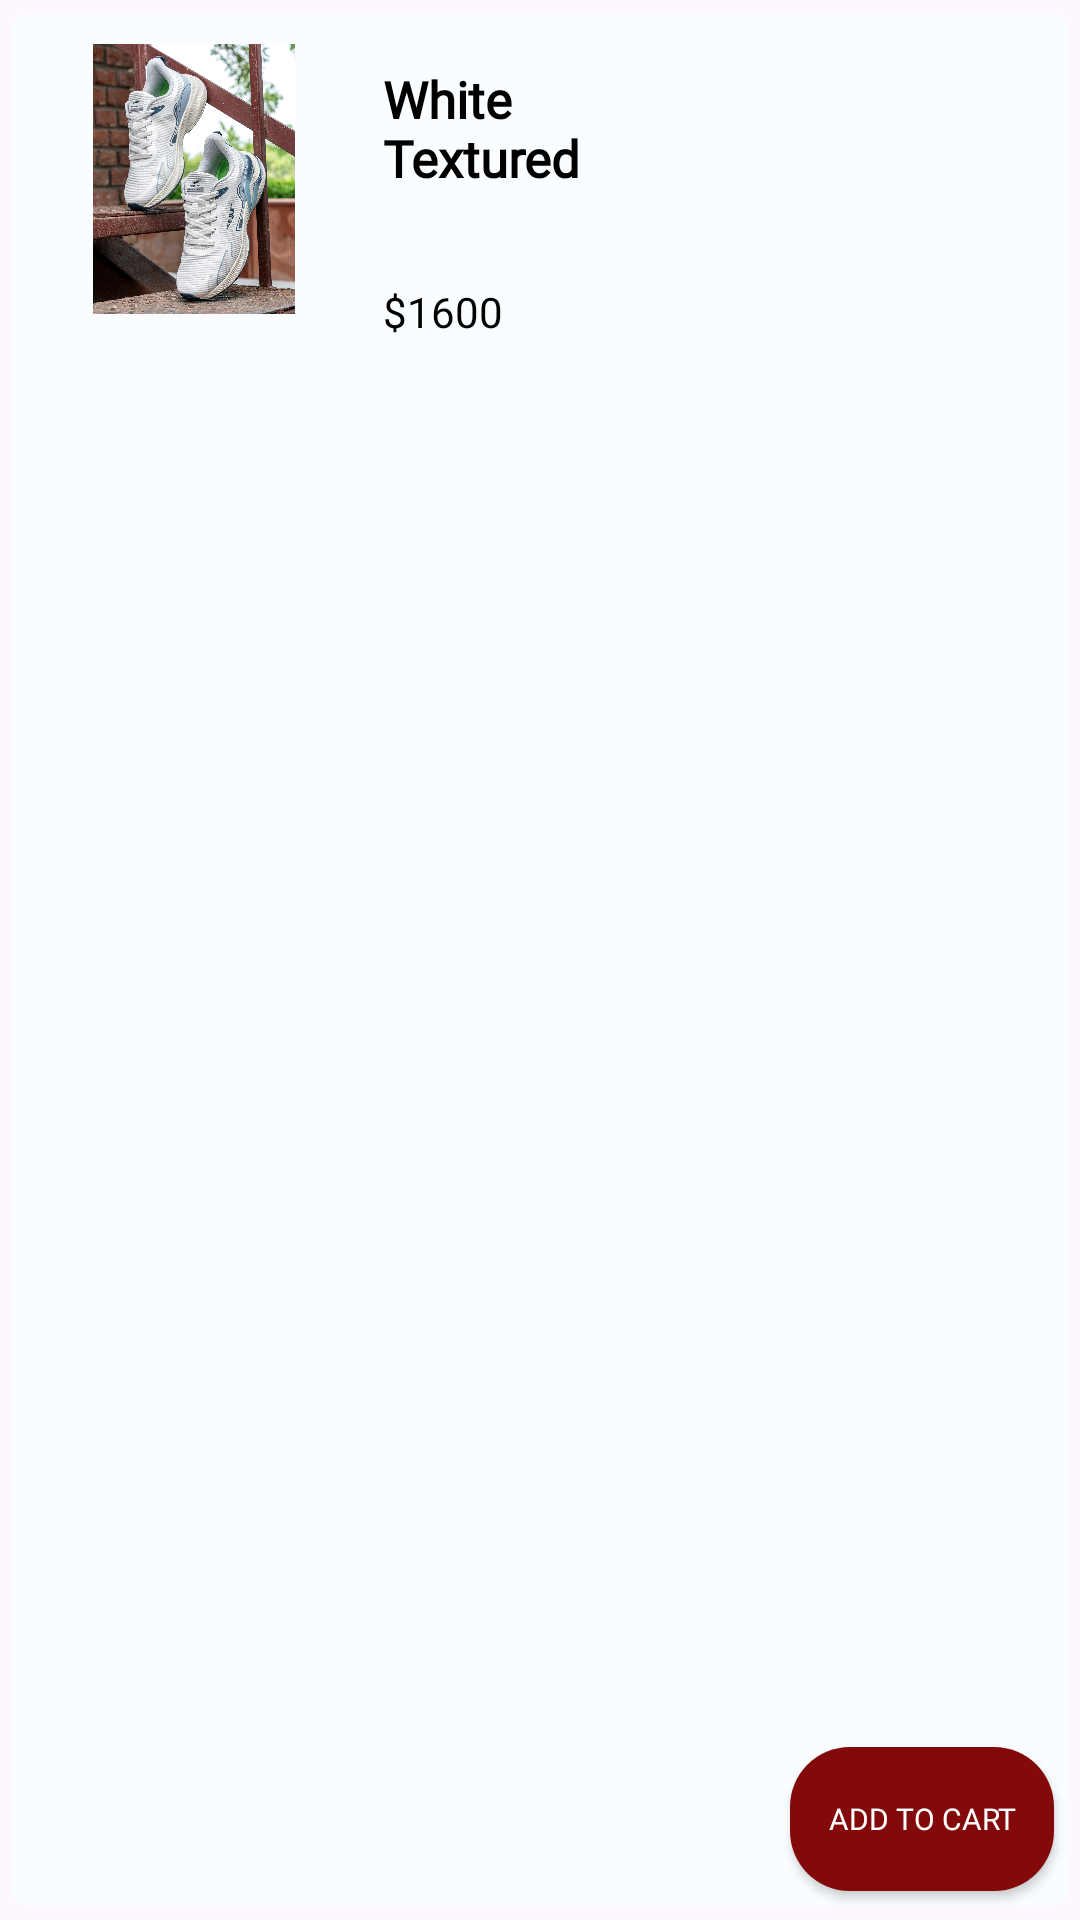

Screen size 1080 x 1920. Icon name, then its center in pixels as [x,y]:
tape shoe: [194,179]
